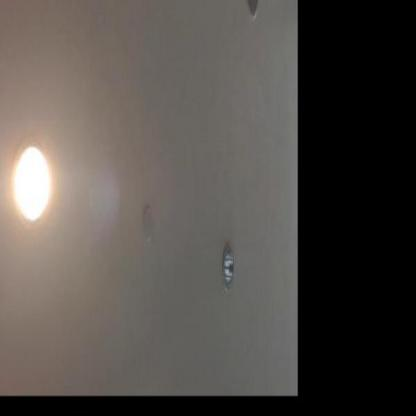light_on: (0, 129, 19, 226)
